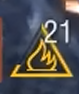1fire: (6, 47, 72, 79)
